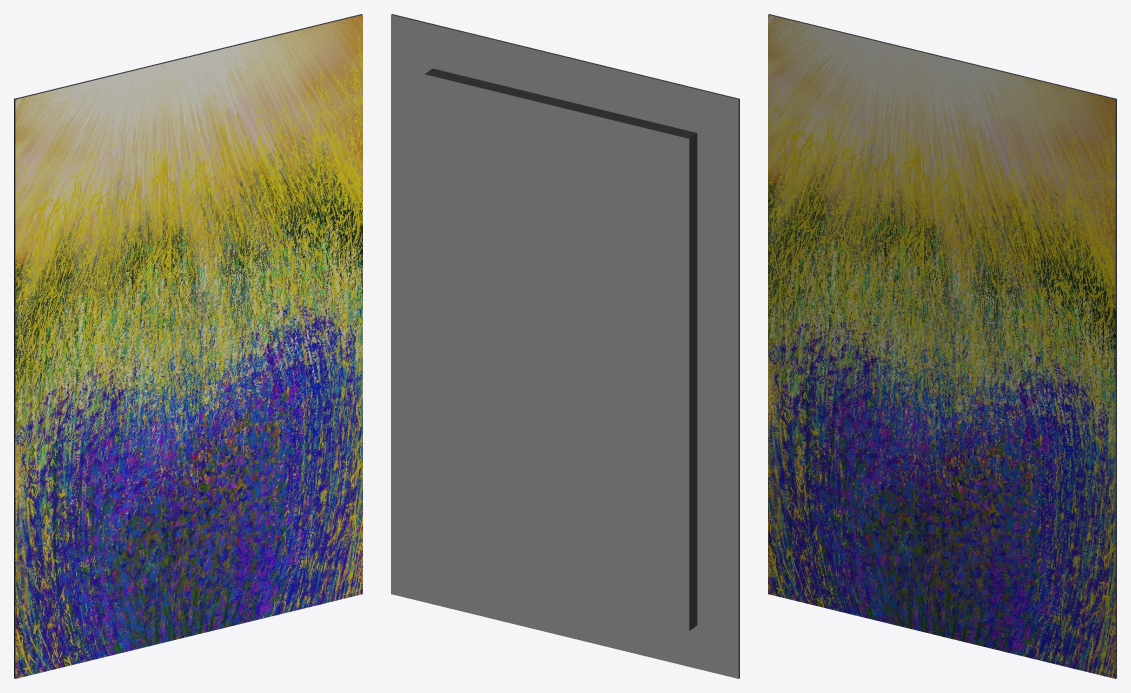
Rendered from os033_moyen_dibond.glb.
The picture shows the model from 3 angles, left to right: view 1: azimuth 30°, elevation 25°; view 2: azimuth 150°, elevation 25°; view 3: azimuth 330°, elevation 25°; orthographic projection.
Visible parts, largest first — view 1: os033_moyen_dibond; view 2: os033_moyen_dibond; view 3: os033_moyen_dibond.
Part boxes in pixels (x1=…): os033_moyen_dibond: x1=14, y1=14, x2=362, y2=678; os033_moyen_dibond: x1=391, y1=14, x2=739, y2=678; os033_moyen_dibond: x1=768, y1=14, x2=1116, y2=678.
Size of the model in its own units: 0.5024 by 0.8 by 0.023.
4 materials, 1 textured.
